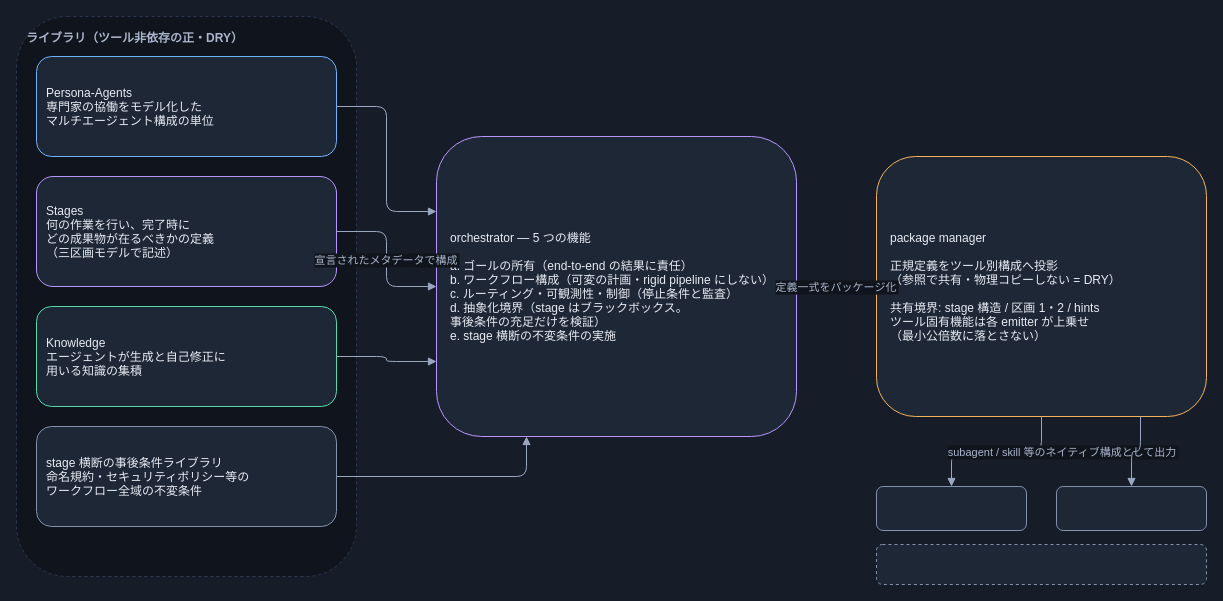
The diagram is 1223 pixels wide and 601 high, and some of its shapes have lost their labels. Each missing label, with the centre of its shape:
Claude Code: the point at 1131,508
Cursor / GitHub Copilot ほか: the point at 1041,564
Kiro: the point at 951,508
